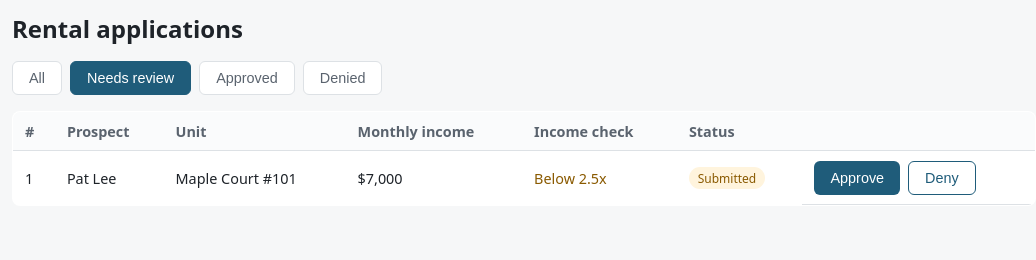
Test case: AgentDashboard › shows the reason when approval is rejected
What coordinates should you click on to do the following:
click the button "Approve"
I would click on:
 (857, 178)
Its box is 814,161 -> 900,195.
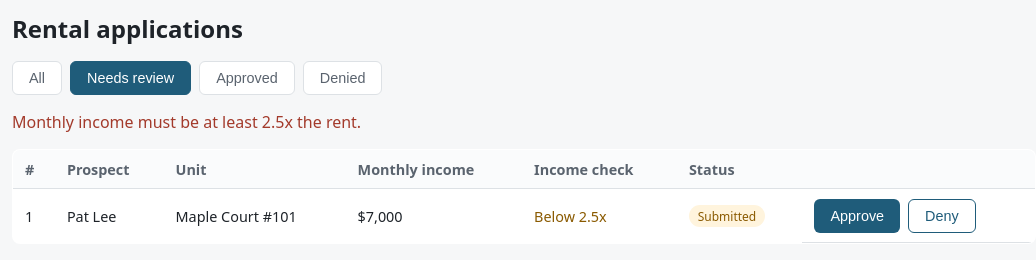
Now the message reads "Monthly income must be at least 2.5x the rent.", box 12,111 -> 361,133
